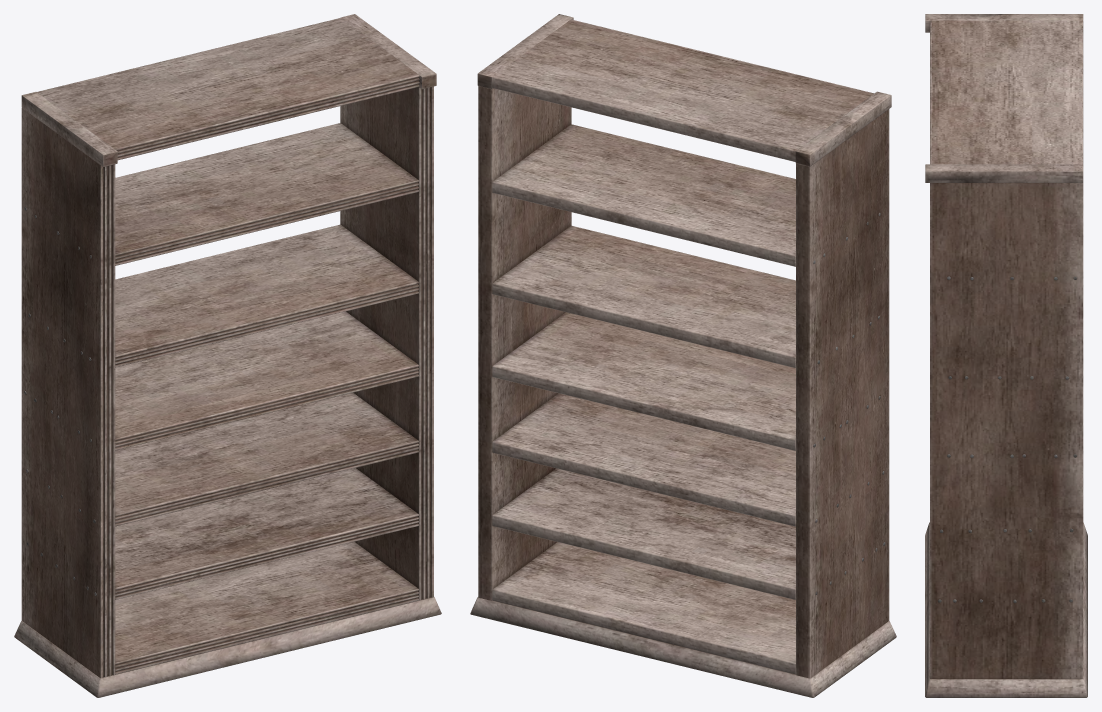
The model's file is ph-wooden-bookshelf-worn.glb.
3 views of the same model, side by side, from view 1: azimuth 30°, elevation 25°; view 2: azimuth 150°, elevation 25°; view 3: azimuth 270°, elevation 25° (orthographic). The views are drawn at different scales.
Parts seen in each view (by area): view 1: wooden_bookshelf_worn; view 2: wooden_bookshelf_worn; view 3: wooden_bookshelf_worn.
Boxes of the visible parts, x1,y1,x2,y2 form: wooden_bookshelf_worn: (14,14,441,697); wooden_bookshelf_worn: (470,14,896,697); wooden_bookshelf_worn: (925,14,1087,697).
Size of the model in its own units: 1.37 by 2.06 by 0.5814.
1 material, 1 textured.
